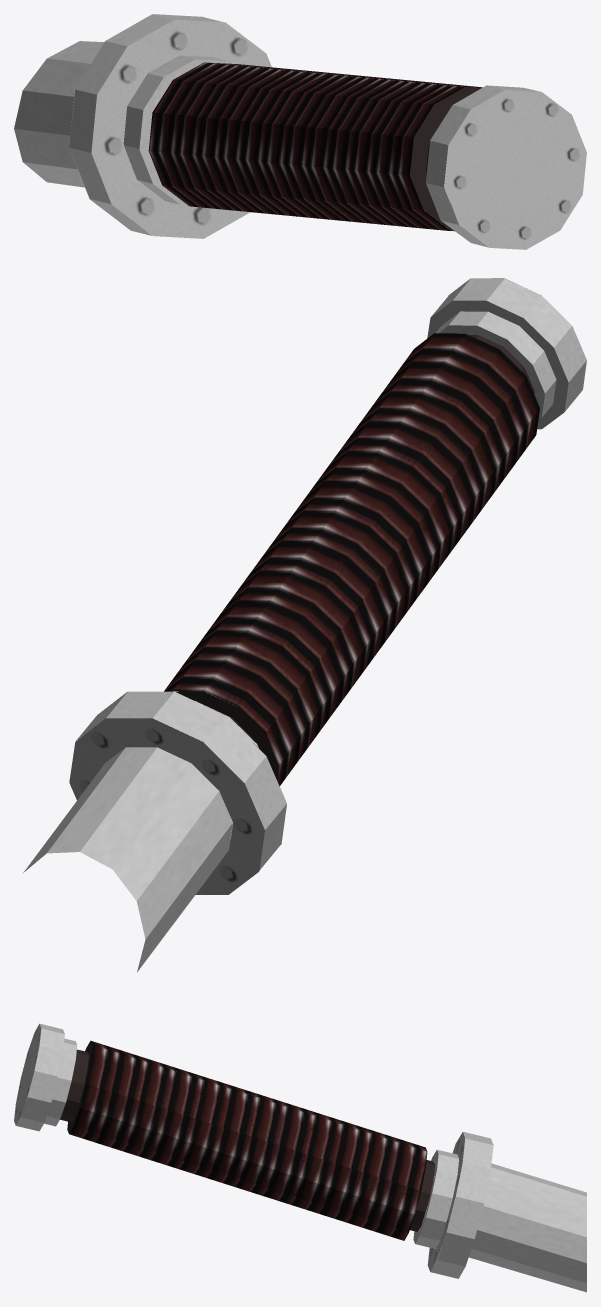
Rendered from jylz018-geode.glb.
3 views of the same model, one above another, from view 1: azimuth 30°, elevation 25°; view 2: azimuth 150°, elevation 25°; view 3: azimuth 270°, elevation 25° (orthographic). The views are drawn at different scales.
Parts seen in each view (by area): view 1: Node; view 2: Node; view 3: Node.
Boxes of the visible parts, x1,y1,x2,y2 form: Node: (14,14,586,249); Node: (23,278,586,972); Node: (14,1023,586,1292).
Size of the model in its own units: 0.165 by 0.3264 by 0.6521.
Materials: 4 (4 with a texture image).
